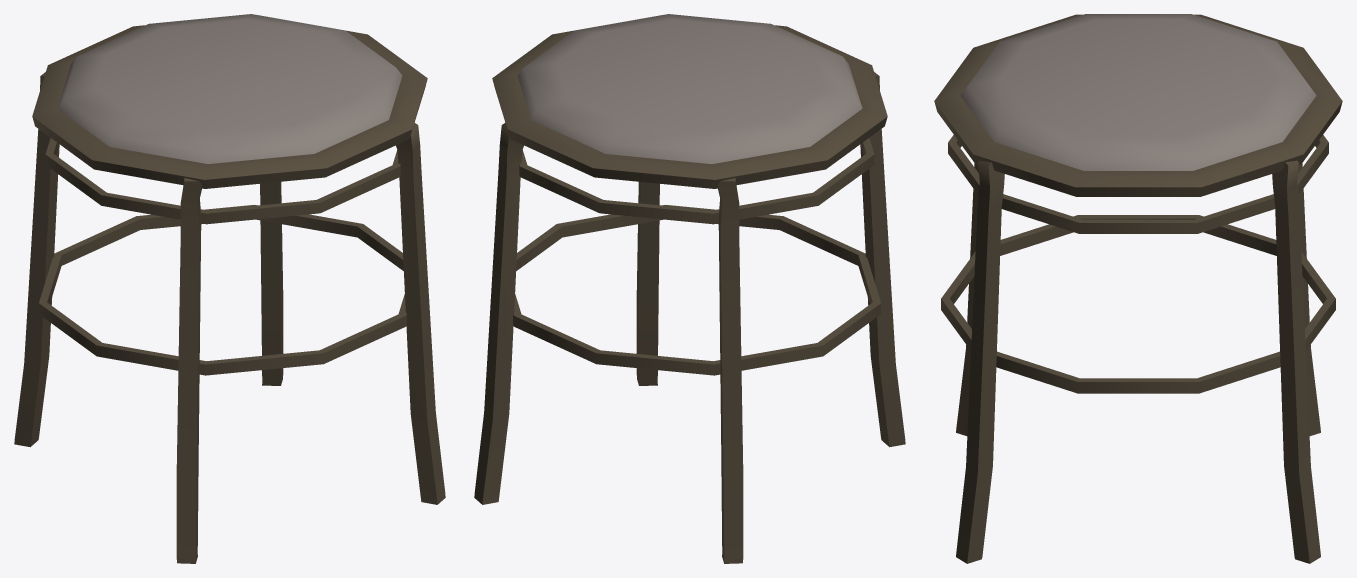
Rendered from furn-stool-round.glb.
3 renders of one model, left to right at view 1: azimuth 30°, elevation 25°; view 2: azimuth 150°, elevation 25°; view 3: azimuth 270°, elevation 25°, orthographic. The views are drawn at different scales.
Visible parts, largest first — view 1: Stool; view 2: Stool; view 3: Stool.
Part boxes in pixels (left/top/right/bottom): Stool: left=14, top=14, right=445, bottom=563; Stool: left=474, top=14, right=905, bottom=563; Stool: left=934, top=14, right=1342, bottom=563.
Size of the model in its own units: 0.4 by 0.45 by 0.4.
